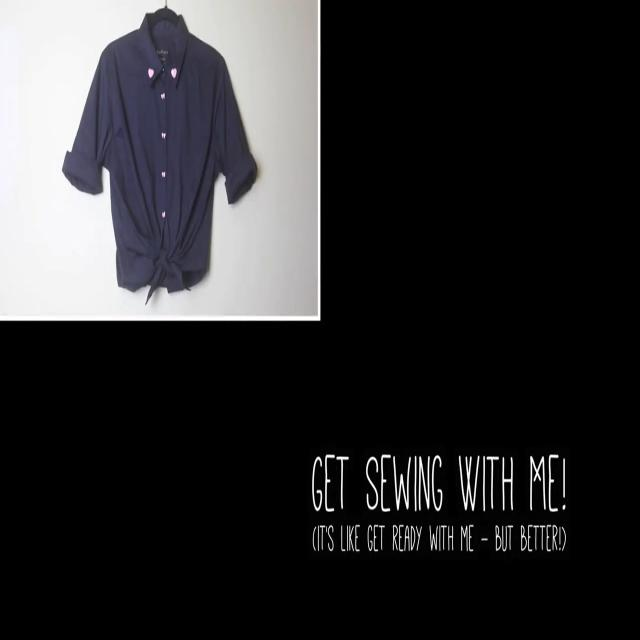Shirt: (62, 11, 258, 304)
